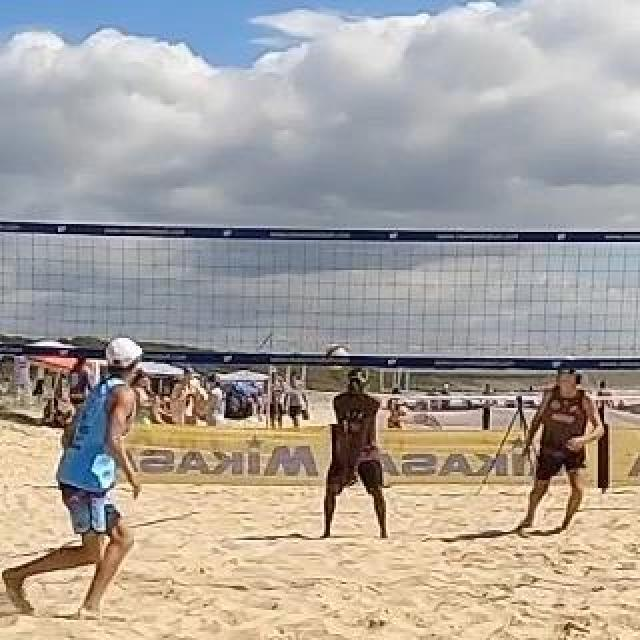volleyball: (325, 345, 351, 371)
